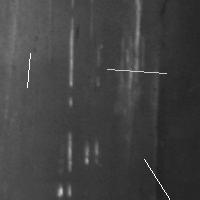scratches: (54, 129, 101, 198), (117, 1, 146, 86), (139, 154, 177, 200), (65, 16, 81, 107), (102, 64, 171, 78), (22, 48, 35, 92)
